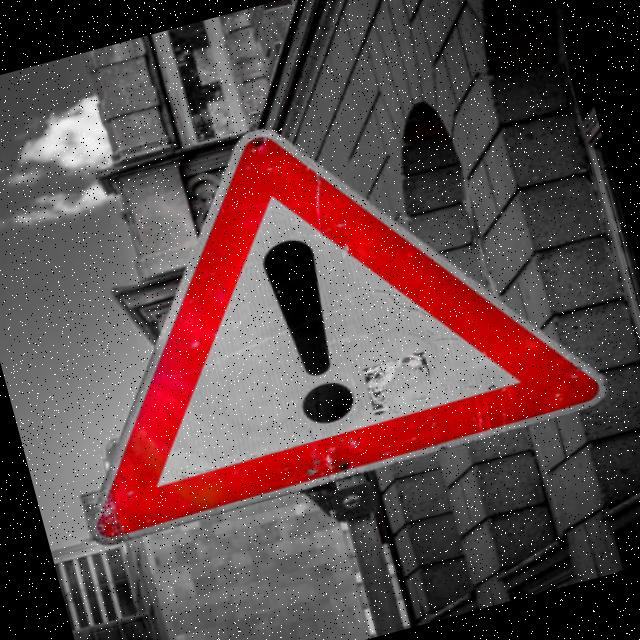warning: (0, 44, 629, 566)
